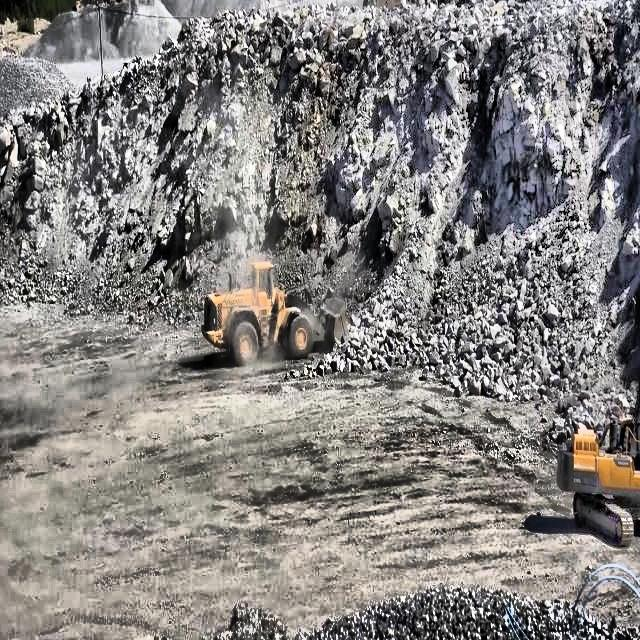bull_dozer/loader/grader: (198, 254, 352, 374)
excavator: (554, 384, 640, 548)
